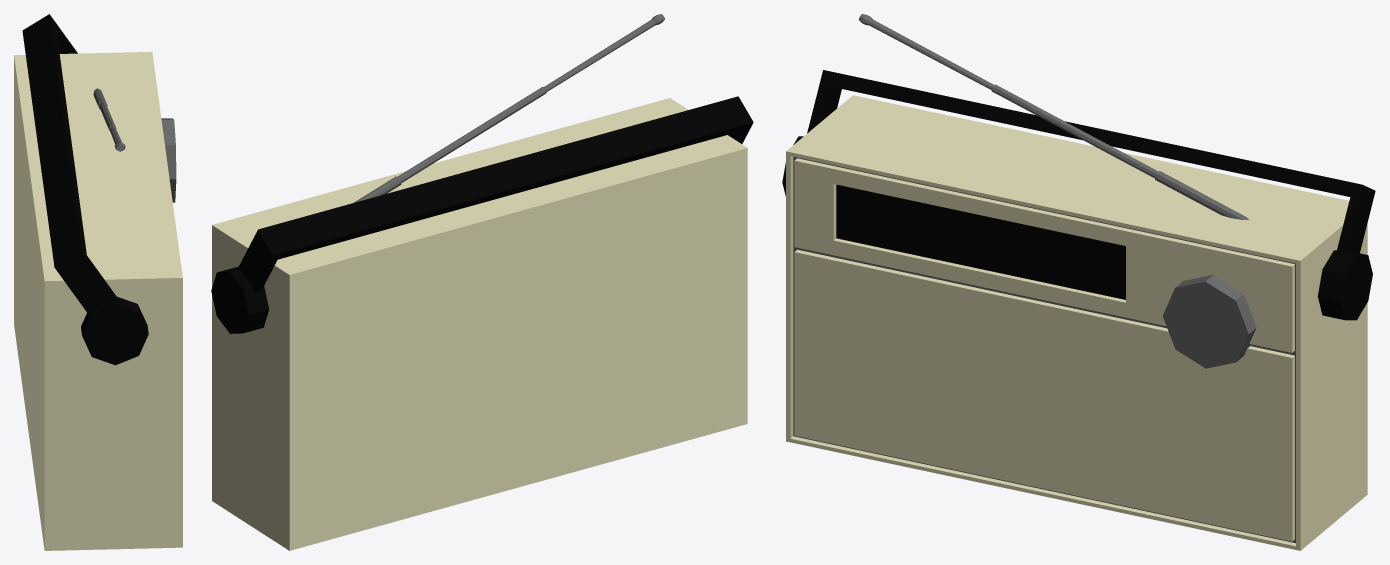
File: SM_Radio.fbx
The picture shows the model from 3 angles, left to right: view 1: azimuth 30°, elevation 25°; view 2: azimuth 150°, elevation 25°; view 3: azimuth 270°, elevation 25°; orthographic projection. The views are drawn at different scales.
Visible parts, largest first — view 1: Radio; view 2: Radio; view 3: Radio.
Boxes of the visible parts, x1,y1,x2,y2 form: Radio: (14,14,182,550); Radio: (211,14,753,550); Radio: (782,14,1375,550).
Size of the model in its own units: 53.86 by 62.62 by 81.5.
